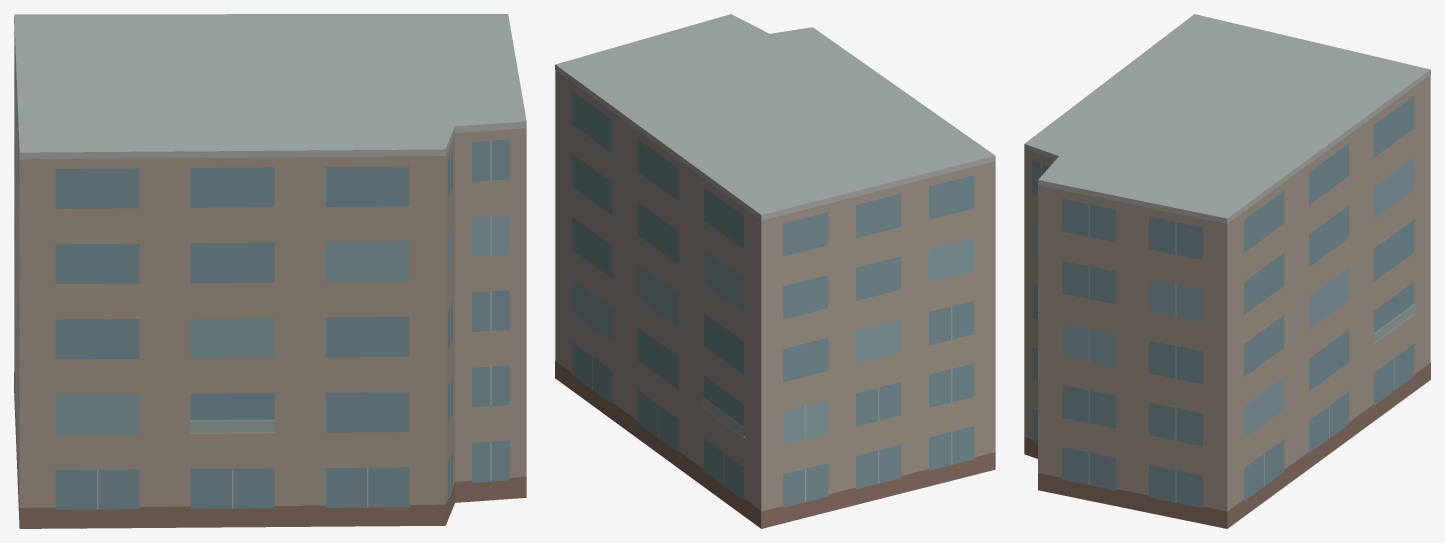
File: survey-upis-32480466.glb
The picture shows the model from 3 angles, left to right: view 1: azimuth 30°, elevation 25°; view 2: azimuth 150°, elevation 25°; view 3: azimuth 270°, elevation 25°; orthographic projection. The views are drawn at different scales.
Parts seen in each view (by area): view 1: survey-upis-32480466.tmp; view 2: survey-upis-32480466.tmp; view 3: survey-upis-32480466.tmp.
Part boxes in pixels (x1,y1,x2,y2): survey-upis-32480466.tmp: [14, 14, 526, 528]; survey-upis-32480466.tmp: [555, 14, 995, 528]; survey-upis-32480466.tmp: [1024, 14, 1430, 528].
Bounding box in the file's own units: 19.66 × 13.9 × 16.51.
